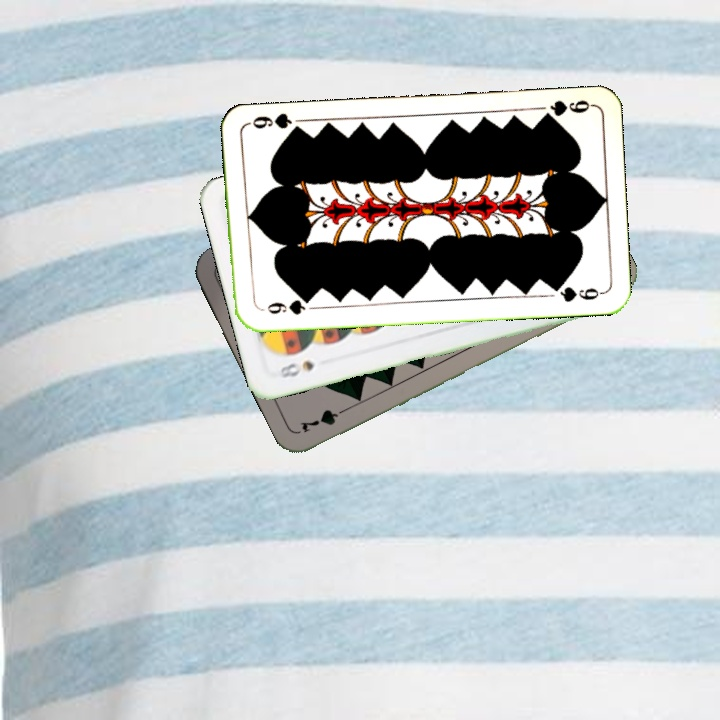G7: (296, 401, 354, 436)
G9: (536, 96, 595, 123), (263, 294, 314, 317)
S8: (271, 357, 317, 381)
